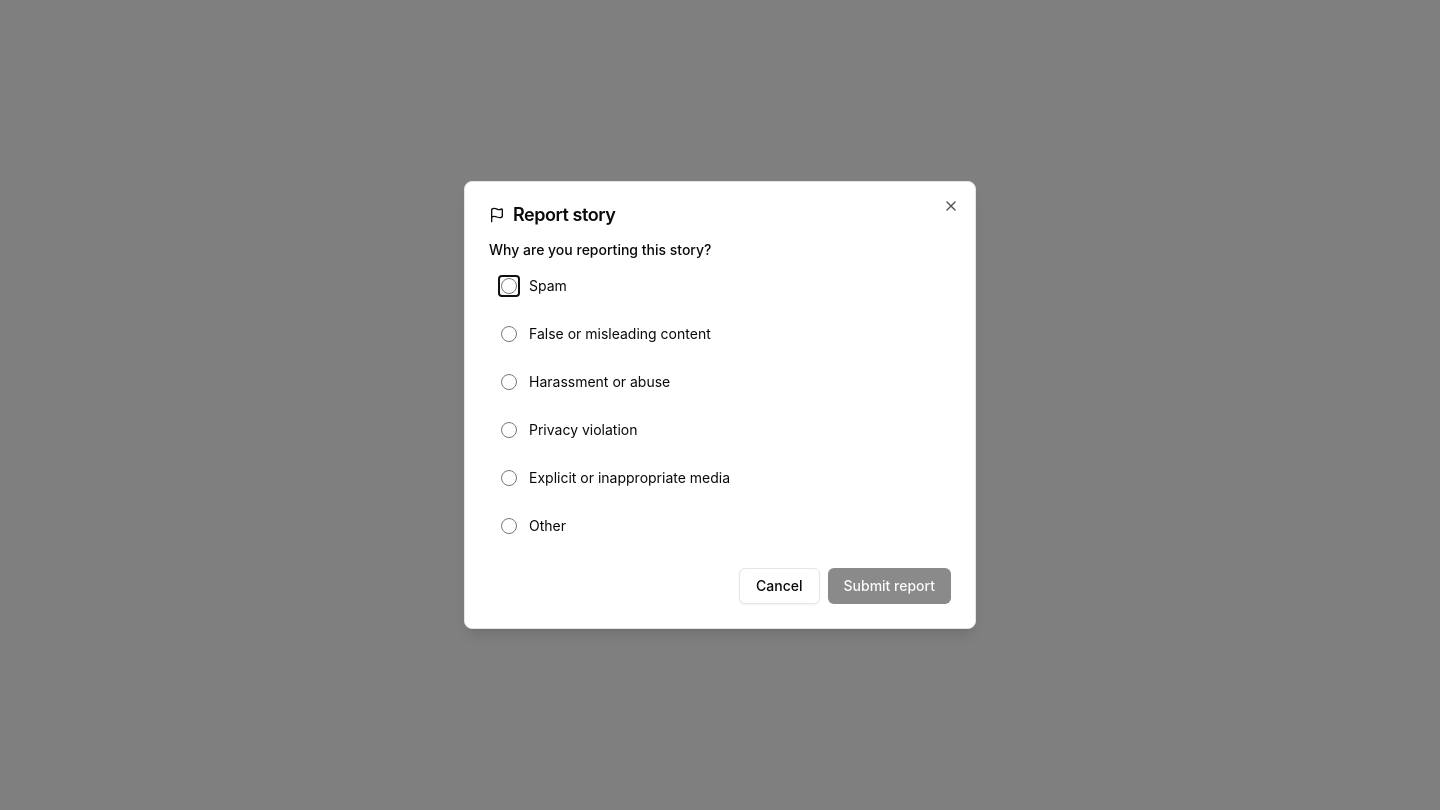
Test: ReportModal › hides description textarea when switching from Other to another reason
Click the radio button labelled "Other": (509, 526) [501,518,517,534]
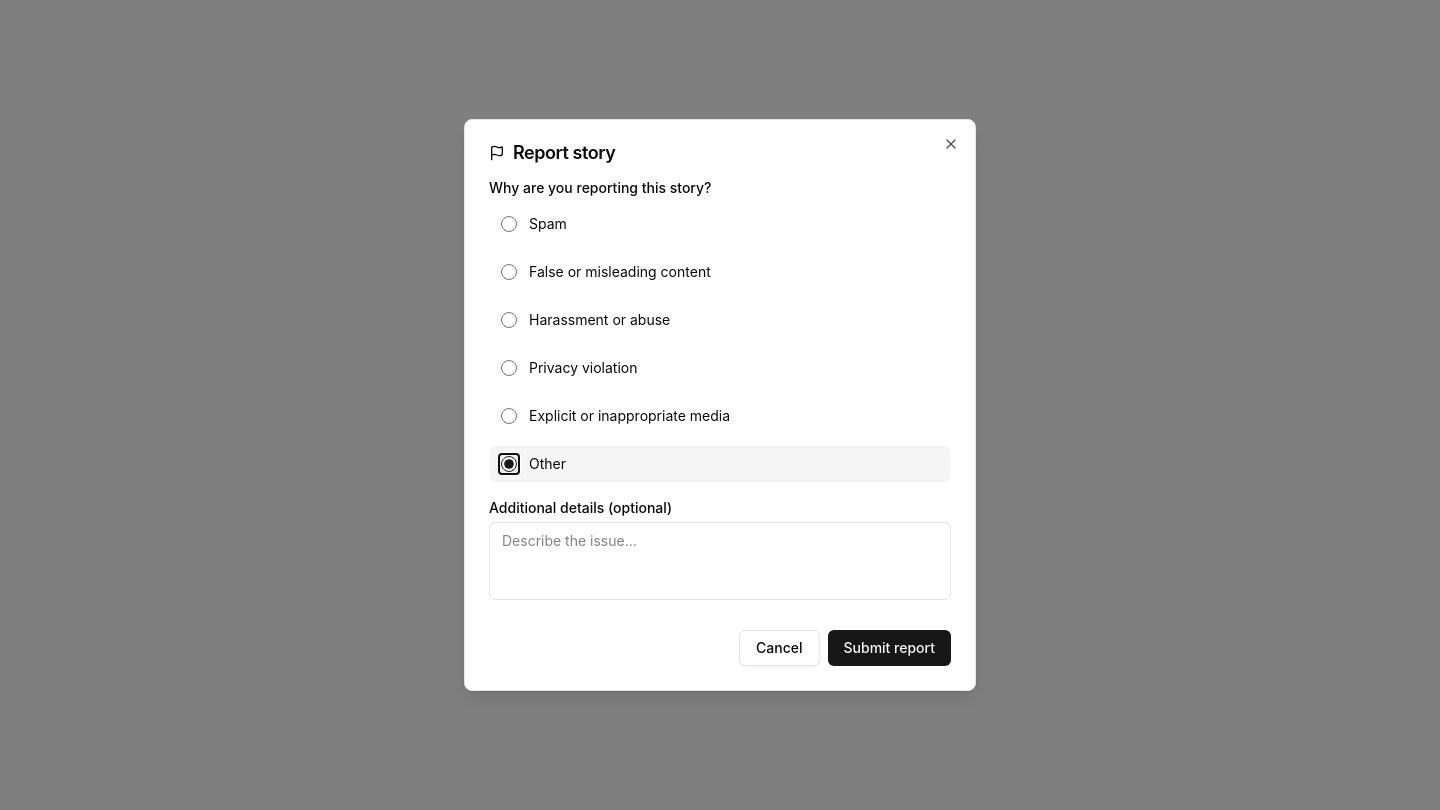
Expected: the text box labelled "Additional details (optional)" is shown, [489,522,951,600]
Click the radio button labelled "Spam": (509, 224) [501,216,517,232]
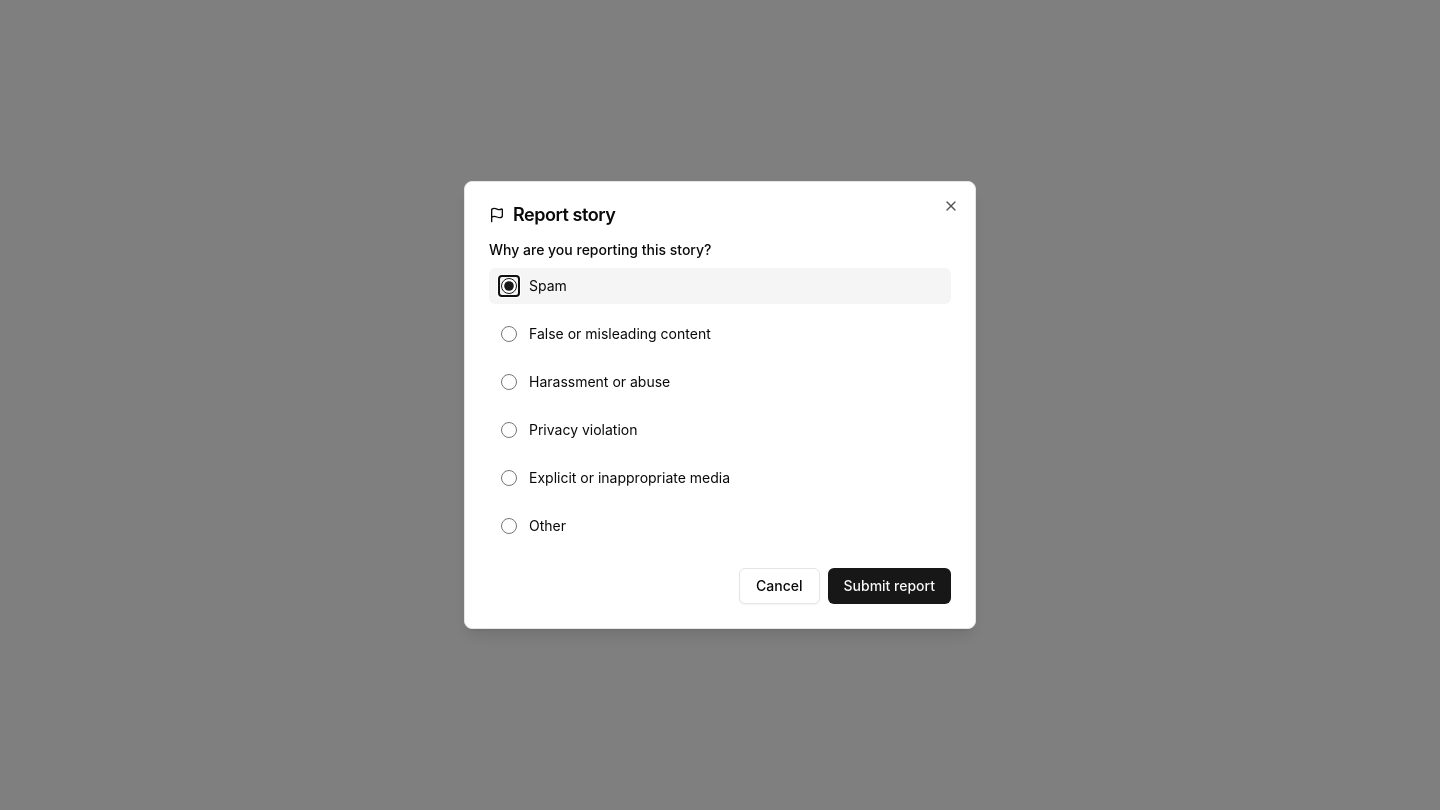
Expected: the label labelled "Additional details" is gone
